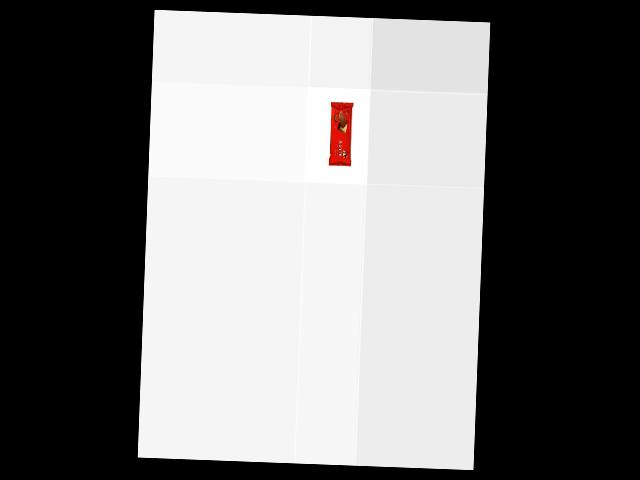chocolate: (327, 102, 353, 168)
